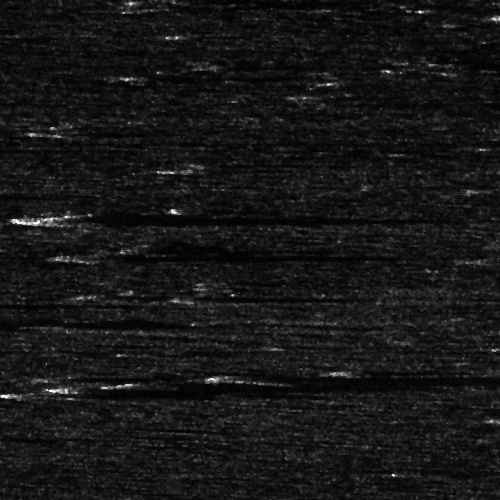object: (0, 210, 83, 225), (0, 385, 92, 398), (37, 248, 110, 263), (217, 372, 300, 383), (151, 291, 234, 302), (71, 379, 164, 388), (6, 371, 99, 380), (5, 127, 78, 136), (324, 367, 377, 374), (101, 73, 154, 78), (482, 415, 500, 426), (53, 322, 94, 325)
shadow: (42, 210, 383, 225), (74, 248, 345, 263), (20, 385, 287, 398), (118, 379, 500, 388), (259, 372, 500, 383), (0, 314, 162, 327), (193, 291, 333, 302), (53, 371, 188, 380), (42, 127, 172, 136), (351, 367, 500, 374), (128, 73, 321, 78), (0, 299, 144, 304), (74, 322, 211, 325), (0, 18, 37, 29), (0, 143, 16, 150)
